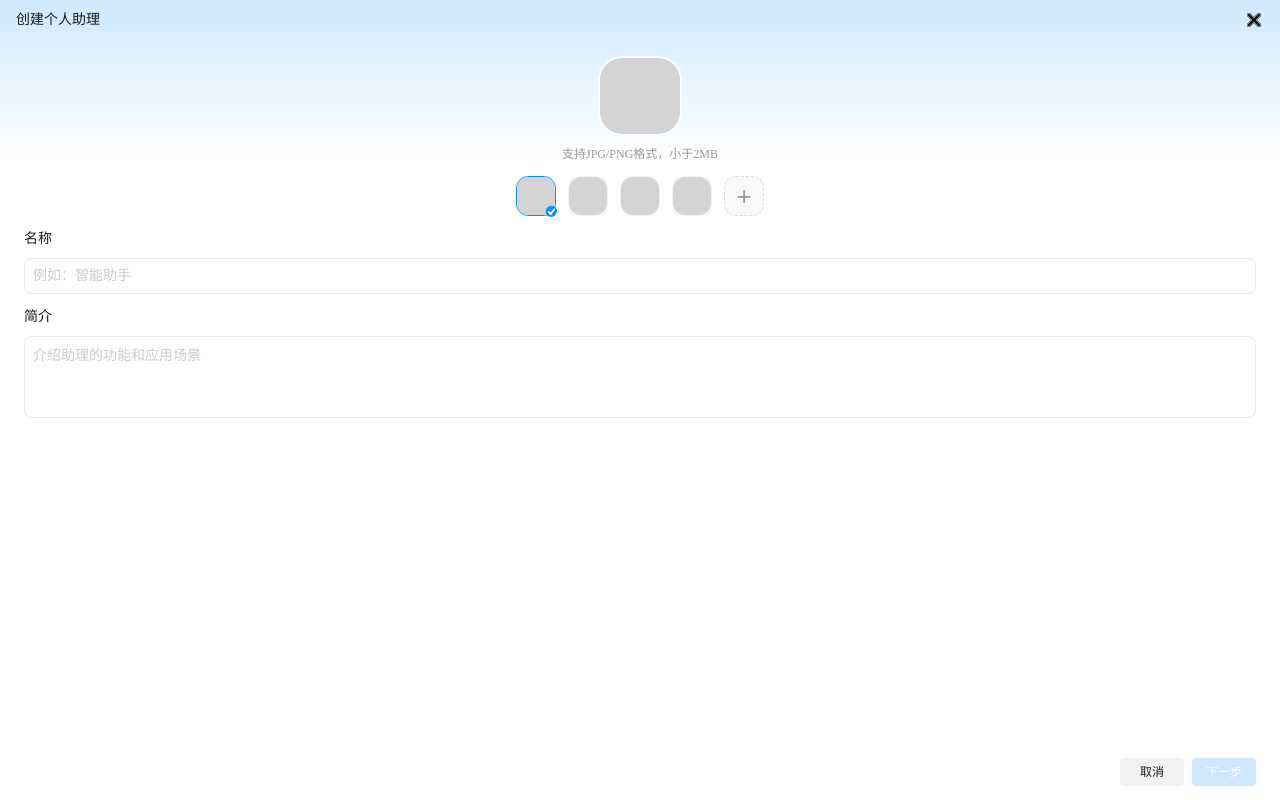
Scenario: StepBasicInfo › highlights input in red and disables next when unsupported characters are entered
This screenshot has width=1280, height=800.
In the field labelled "名称": (640, 276) [24,258,1256,294], type "智能助手@"
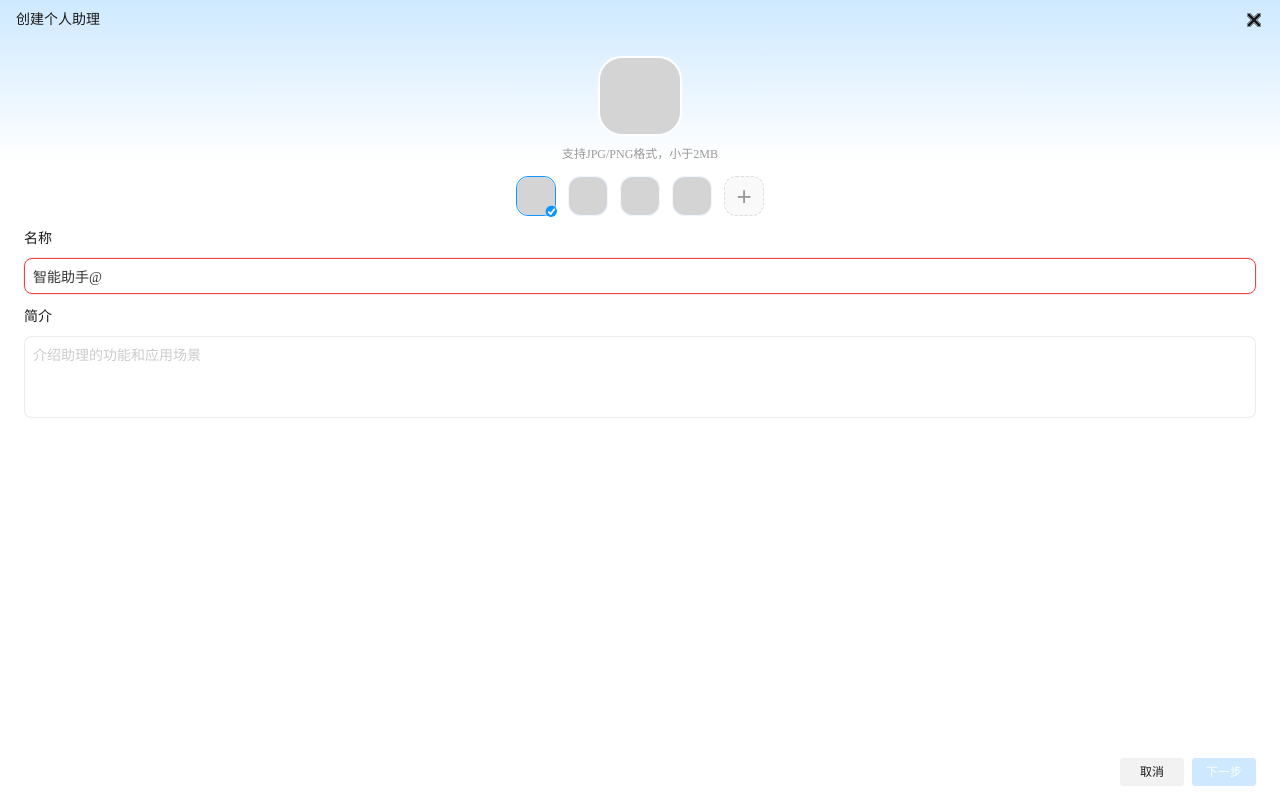
In the text box labelled "简介": (640, 377) [24,336,1256,418], type "说明ABC123"
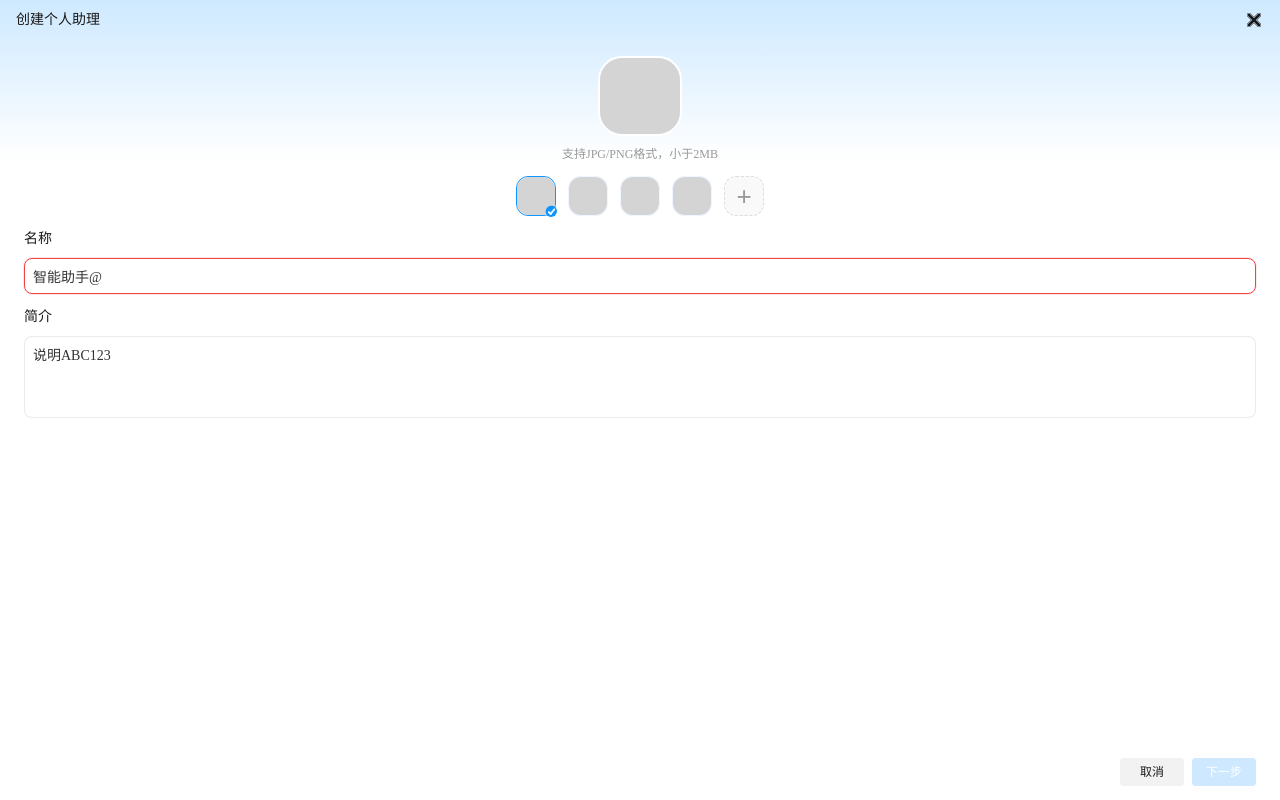
Check: the button "下一步" is disabled, box [1192,758,1256,786]
Check: the field labelled "名称" has class "is-invalid"
Replace the text in the field labelled "名称" with "智能助手1": (640, 276) [24,258,1256,294]
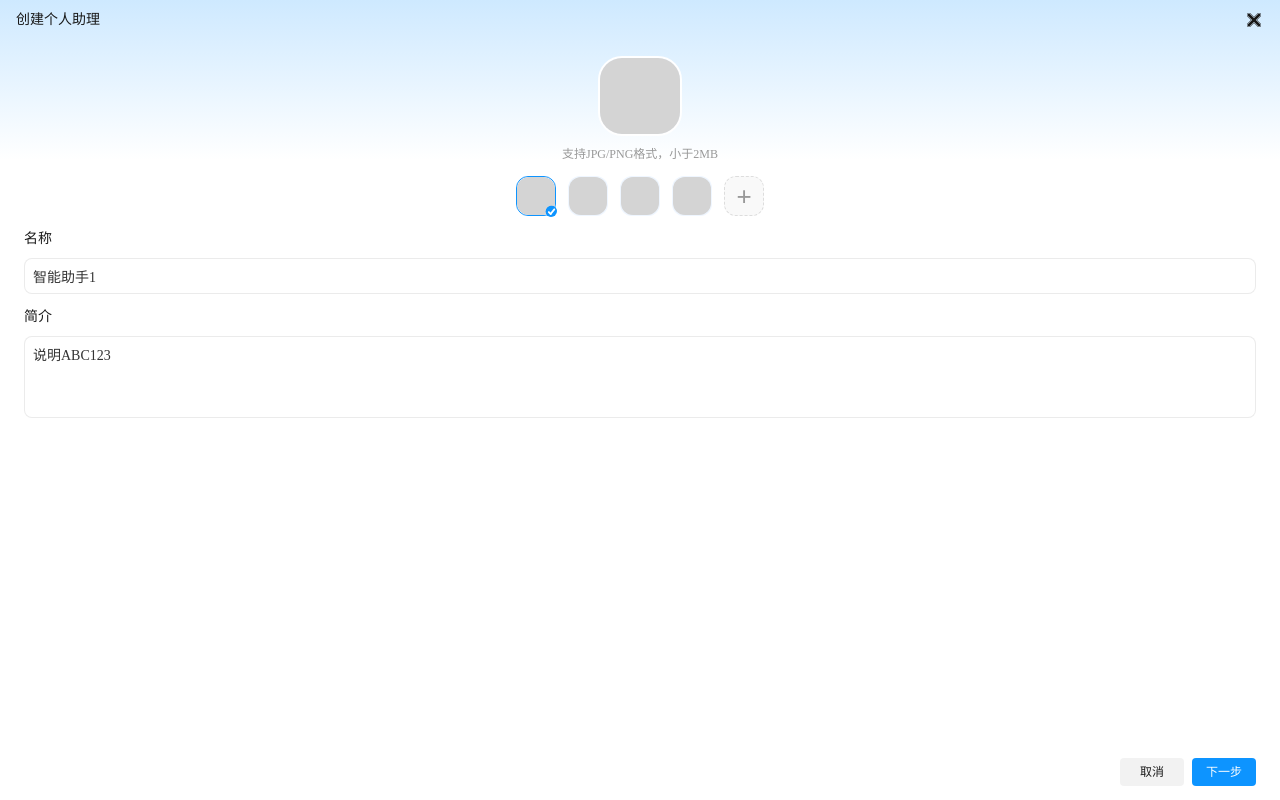
Replace the text in the text box labelled "简介" with "说明ABC😀": (640, 377) [24,336,1256,418]
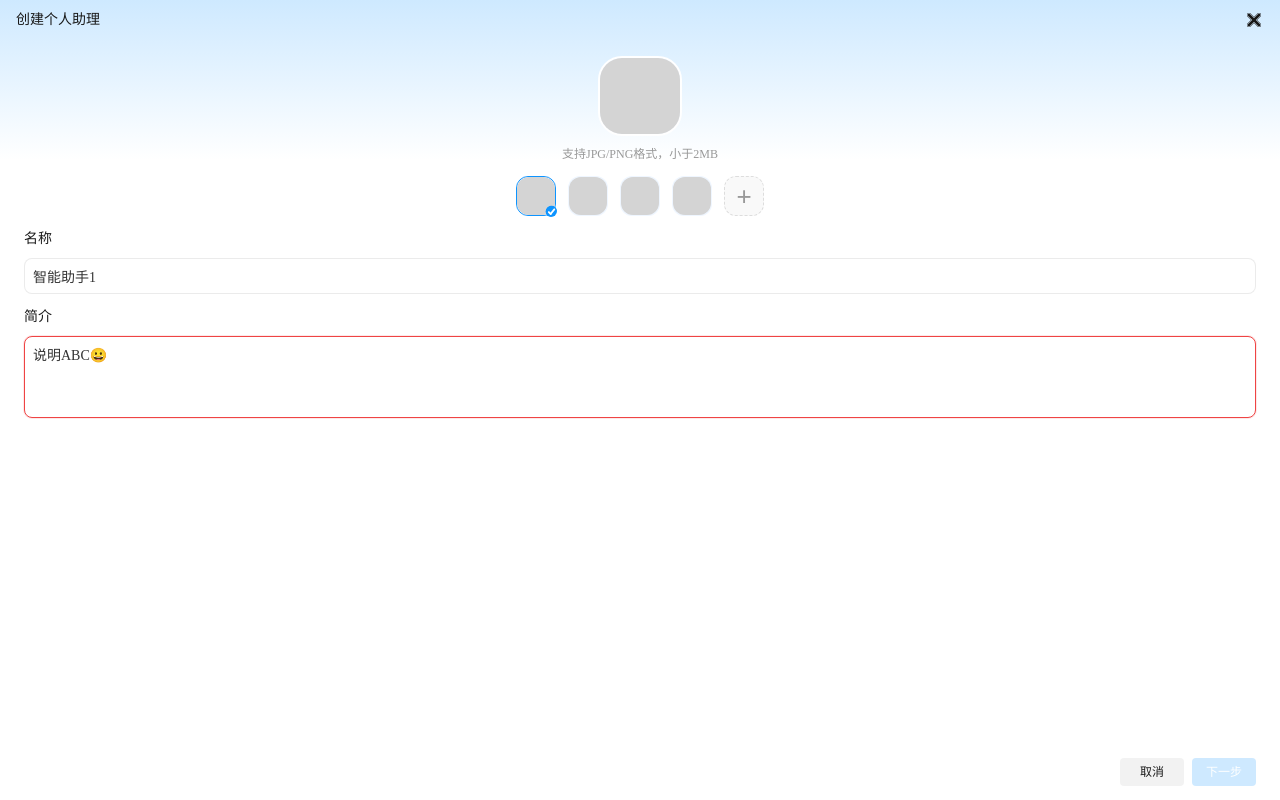
Check: the button "下一步" is disabled, box [1192,758,1256,786]
Replace the text in the text box labelled "简介" with "说明ABC123，支持标点。": (640, 377) [24,336,1256,418]
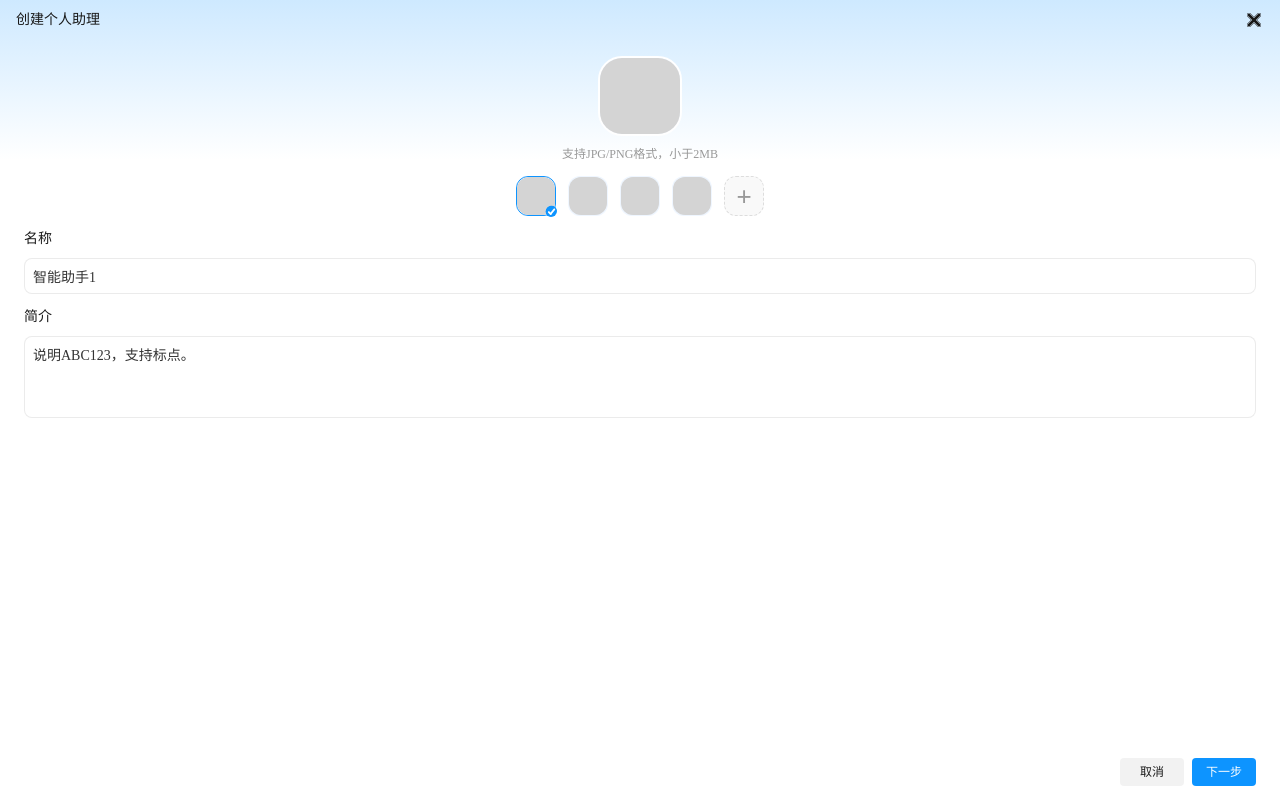
Check: the button "下一步" is enabled, box [1192,758,1256,786]
